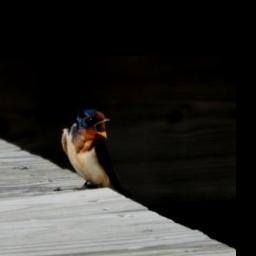Swallow: (61, 105, 120, 190)
